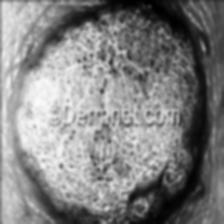Toxin: (76, 42, 108, 82), (85, 154, 115, 188)
